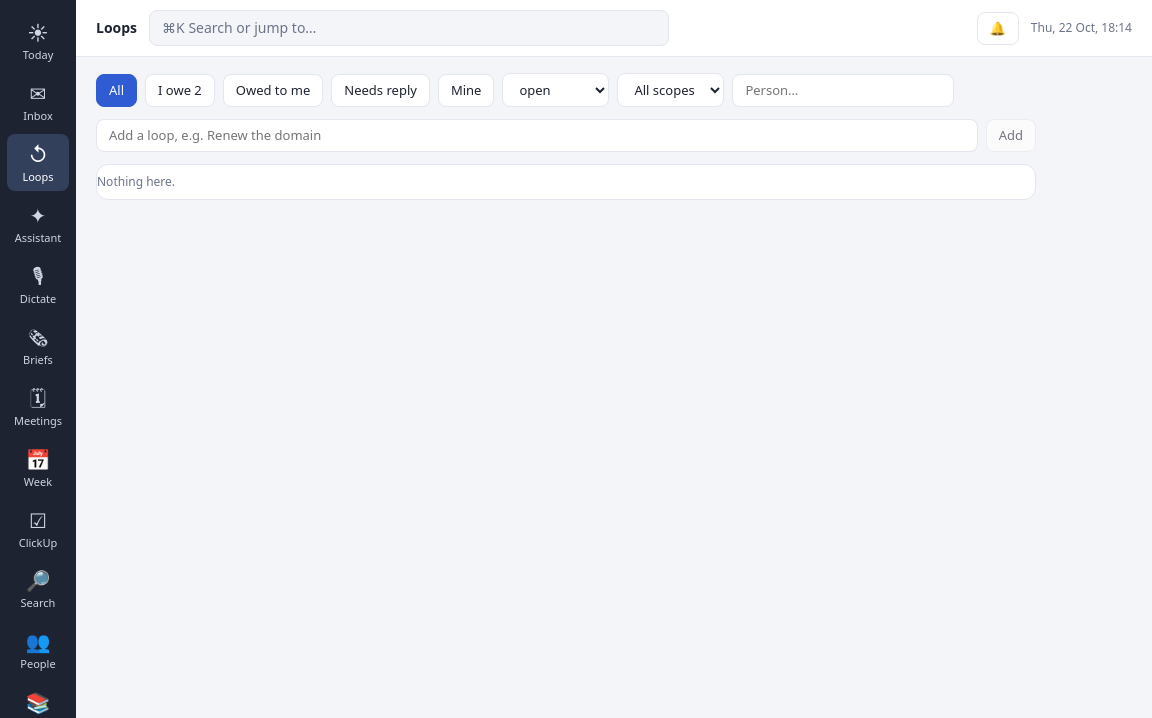
Test: filters by direction and scope build the query
This screenshot has width=1152, height=718.
Click the button "I owe 2" at {"x": 180, "y": 90}, box [145,74,215,107]
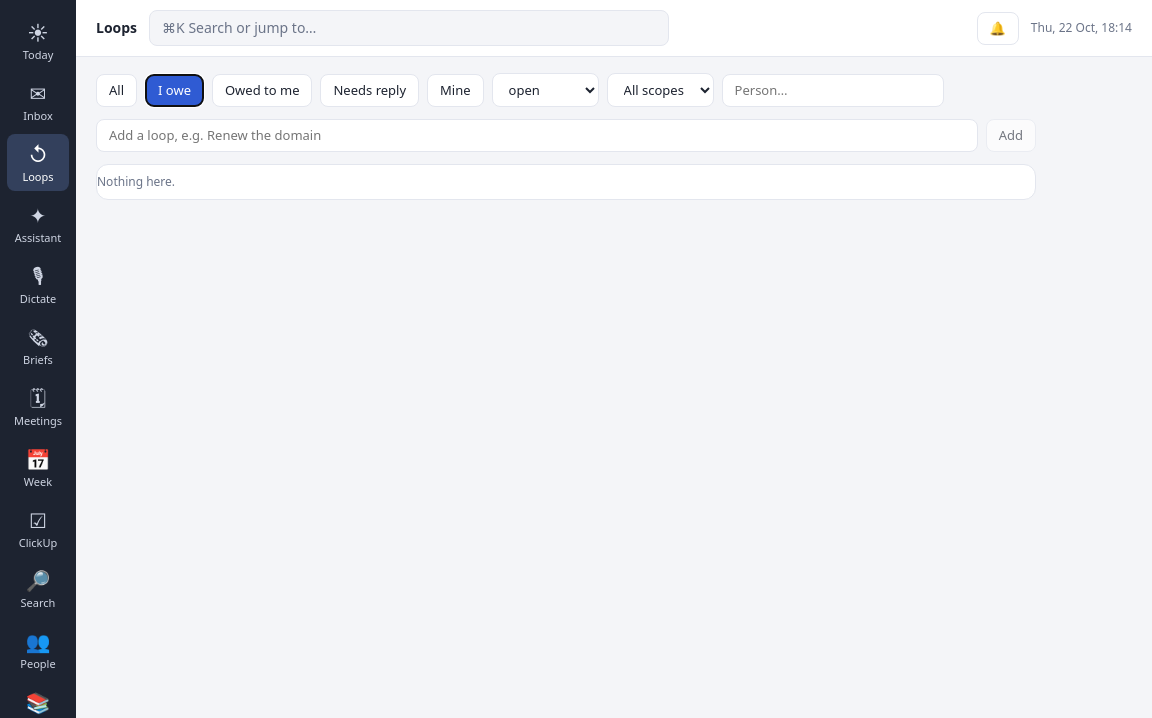
Select "rdim" in the dropdown named "Scope" at {"x": 660, "y": 90}, box [607,73,714,107]
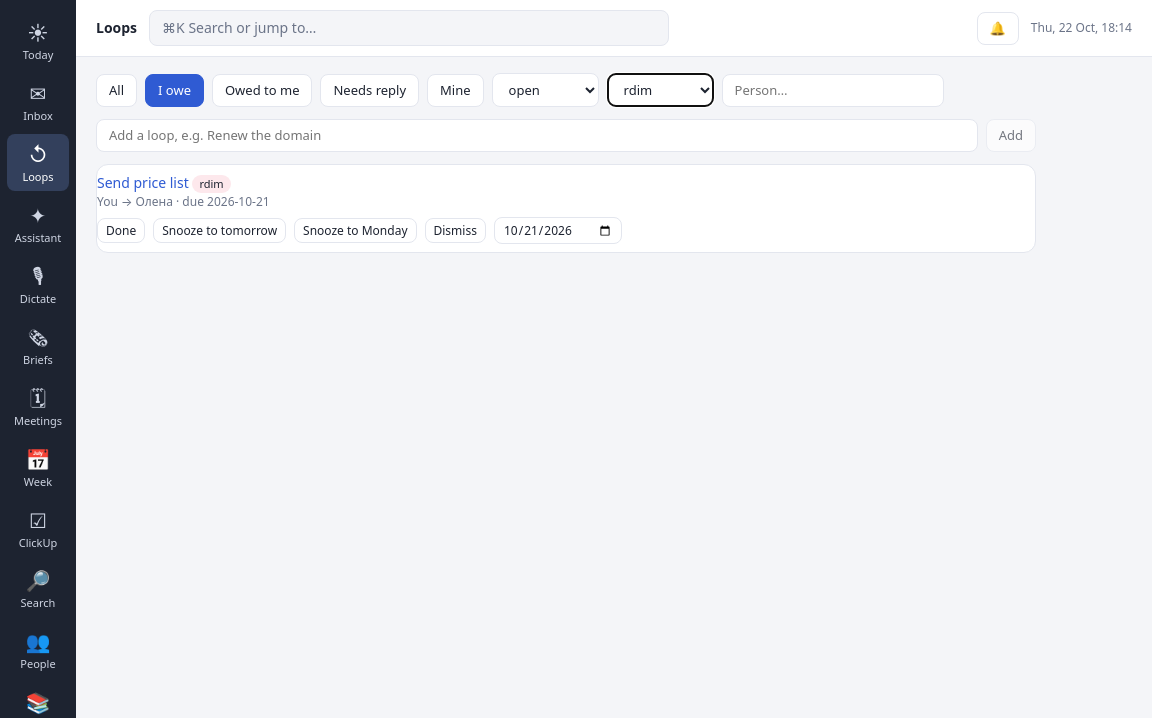
Expected: the link "Send price list" is shown, [97,173,189,192]
